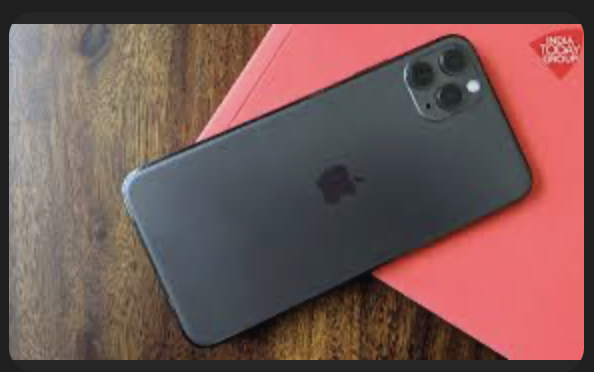phone: (167, 37, 508, 349)
